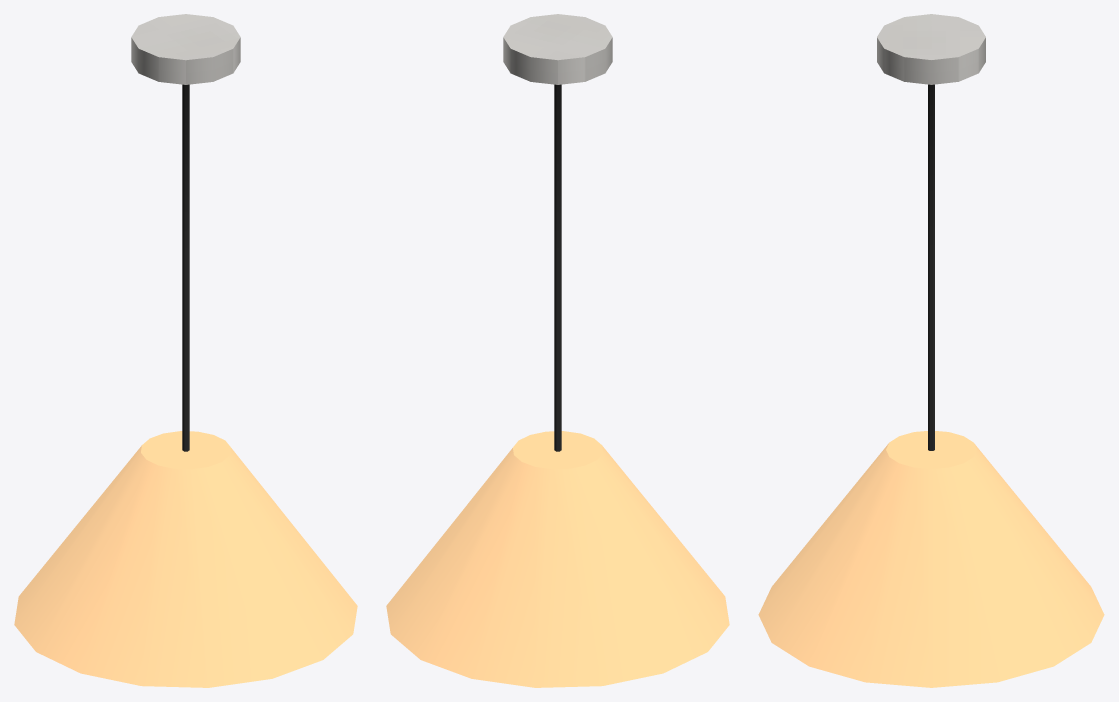
The model's file is ceiling_pendant.glb.
3 renders of one model, left to right at view 1: azimuth 30°, elevation 25°; view 2: azimuth 150°, elevation 25°; view 3: azimuth 270°, elevation 25°, orthographic.
Visible parts, largest first — view 1: noshadow, body; view 2: noshadow, body; view 3: noshadow, body.
Boxes of the visible parts, bbox=[...] form: noshadow: bbox=[14, 431, 357, 687]; body: bbox=[131, 14, 240, 451]; noshadow: bbox=[386, 431, 729, 687]; body: bbox=[503, 14, 612, 451]; noshadow: bbox=[758, 431, 1104, 687]; body: bbox=[877, 14, 985, 450].
Size of the model in its own units: 0.38 by 0.7 by 0.38.
4 materials, 1 textured.
